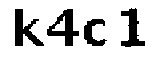1: (116, 3, 150, 51)
4: (47, 6, 80, 49)
c: (82, 16, 109, 47)
k: (10, 5, 46, 49)
